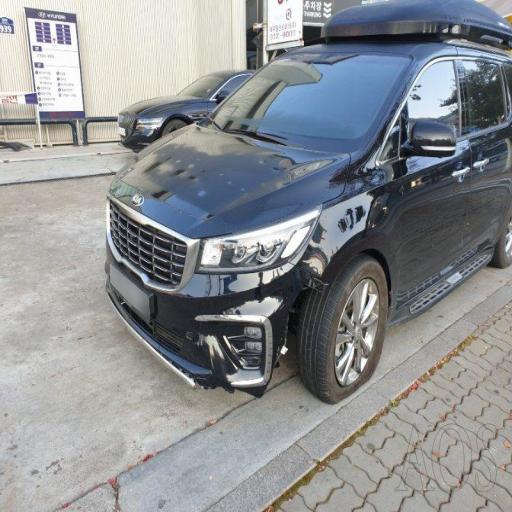broken: (136, 148, 360, 370)
